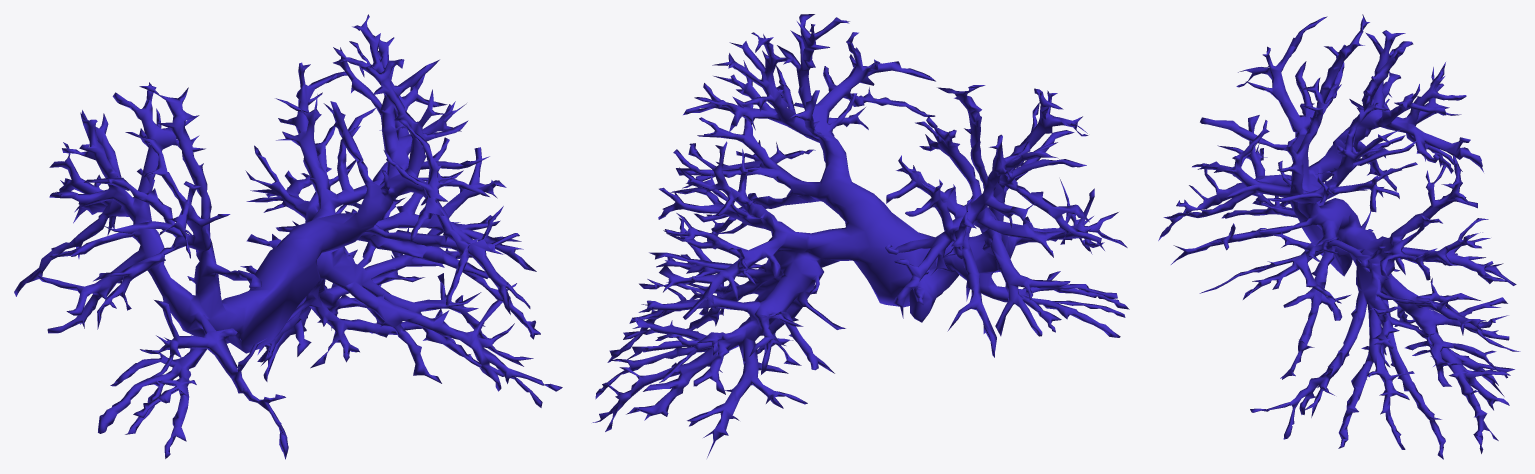
The picture shows the model from 3 angles, left to right: view 1: azimuth 30°, elevation 25°; view 2: azimuth 150°, elevation 25°; view 3: azimuth 270°, elevation 25°; orthographic projection. The views are drawn at different scales.
Visible parts, largest first — view 1: Polygonal_Model_4_Triangles_0; view 2: Polygonal_Model_4_Triangles_0; view 3: Polygonal_Model_4_Triangles_0.
Part boxes in pixels (left/top/right/bottom): Polygonal_Model_4_Triangles_0: left=14, top=14, right=562, bottom=459; Polygonal_Model_4_Triangles_0: left=592, top=14, right=1129, bottom=457; Polygonal_Model_4_Triangles_0: left=1158, top=14, right=1520, bottom=459.
Size of the model in its own units: 8.63 by 6.95 by 7.3.
